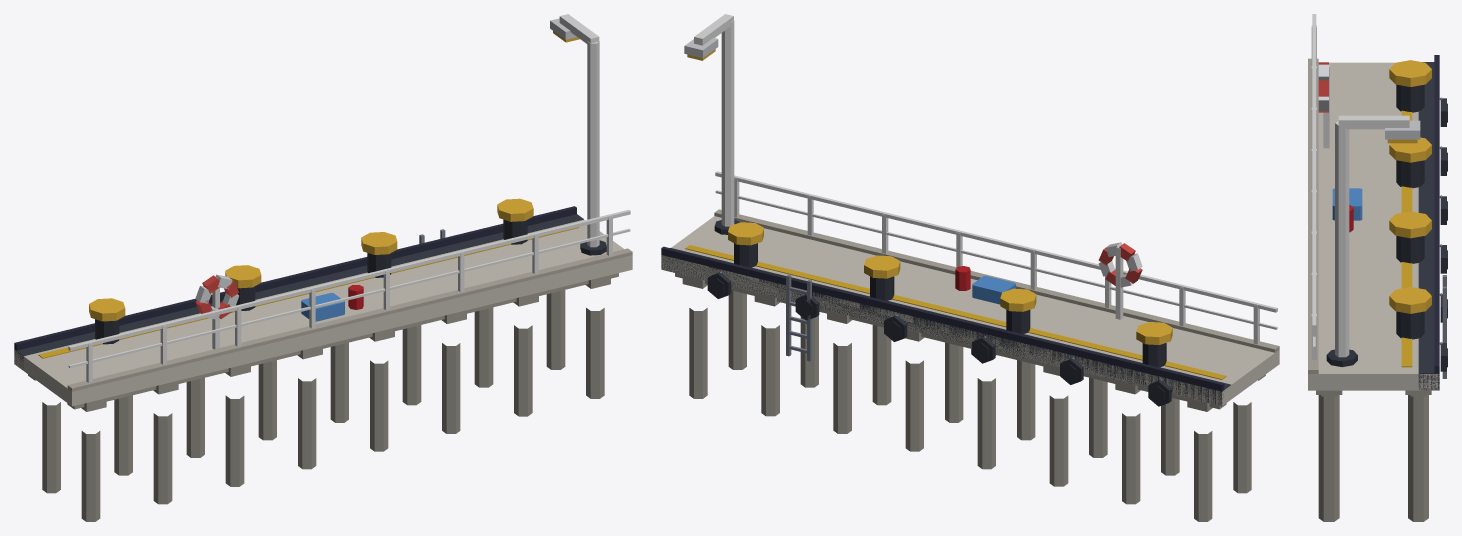
File: pier_long.glb
3 views of the same model, side by side, from view 1: azimuth 30°, elevation 25°; view 2: azimuth 150°, elevation 25°; view 3: azimuth 270°, elevation 25° (orthographic). The views are drawn at different scales.
Visible parts, largest first — view 1: pier_long; view 2: pier_long; view 3: pier_long.
Boxes of the visible parts, bbox=[...] form: pier_long: bbox=[14, 14, 632, 521]; pier_long: bbox=[661, 14, 1279, 521]; pier_long: bbox=[1308, 14, 1447, 521].
Bounding box in the file's own units: 14 × 8.44 × 2.66.
